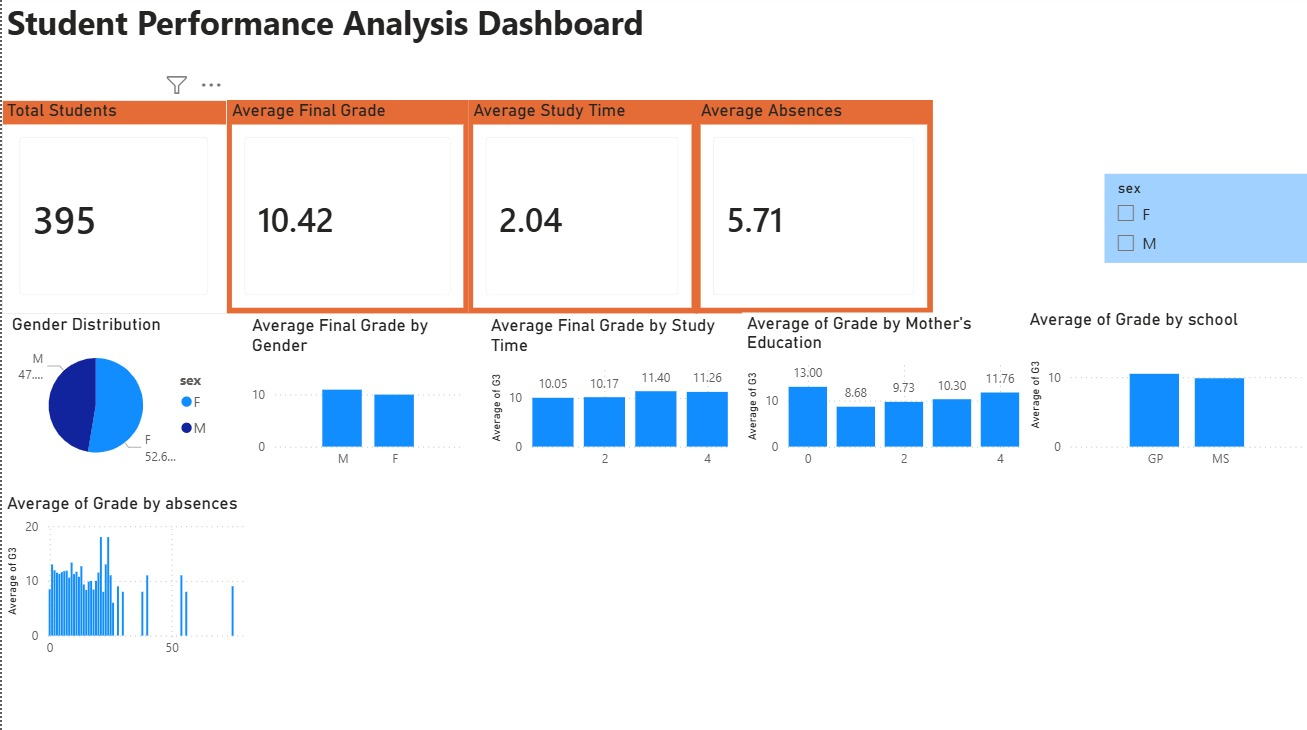

What the dashboard file says about the page in this screenshot:
{"tool":"powerbi","page":{"name":"Page 1","canvas":[1280,720],"ordinal":0},"visuals":[{"type":"cardVisual","title":"Total Students","fields":{"Data":["CountNonNull(student_data.age)"]},"box":[0,102.9,219.6,208.6],"z":0},{"type":"cardVisual","title":"Average Final Grade","fields":{"Data":["Avg(student_data.G3)"]},"box":[219.6,102.9,236,208.6],"z":1000},{"type":"cardVisual","title":"Average Study Time","fields":{"Data":["Avg(student_data.studytime)"]},"box":[455.6,102.9,223.7,208.6],"z":2000},{"type":"cardVisual","title":"Average Absences","fields":{"Data":["Avg(student_data.absences)"]},"box":[679.2,102.9,231.9,208.6],"z":3000},{"type":"pieChart","title":"Gender Distribution","fields":{"Category":["student_data.sex"],"Y":["CountNonNull(student_data.sex)"]},"box":[4.9,311.8,215.2,160.2],"z":4000},{"type":"clusteredColumnChart","title":"Average Final Grade by Gender","fields":{"Category":["student_data.sex"],"Y":["Avg(student_data.G3)"]},"box":[239.7,313,216.4,159],"z":5000},{"type":"clusteredColumnChart","title":"Average Final Grade by Study Time","fields":{"Category":["student_data.studytime"],"Y":["Avg(student_data.G3)"]},"box":[473.2,313,242.1,159],"z":6000},{"type":"clusteredColumnChart","title":"Average of Grade by Mother''s Education","fields":{"Category":["student_data.Medu"],"Y":["Avg(student_data.G3)"]},"box":[723.9,310.6,276.4,161.4],"z":7000},{"type":"slicer","fields":{"Values":["student_data.sex"]},"box":[1078.5,174.9,201.8,86.8],"z":8000},{"type":"textbox","box":[0,0,693,79.6],"z":9000},{"type":"clusteredColumnChart","title":"Average of Grade by school","fields":{"Category":["student_data.school"],"Y":["Avg(student_data.G3)"]},"box":[1000.3,306.9,280,165.1],"z":10000},{"type":"clusteredColumnChart","title":"Average of Grade by absences","fields":{"Category":["student_data.absences"],"Y":["Avg(student_data.G3)"]},"box":[0,487.1,249.7,170.2],"z":11000}]}

Visuals, with their boxes in screenshot pixels (x1, y1, x2, y2), scaled from the page's 1280x720 canvas onto the 1307x730 screenshot:
"Total Students" cardVisual: box(0, 104, 224, 316)
"Average Final Grade" cardVisual: box(224, 104, 465, 316)
"Average Study Time" cardVisual: box(465, 104, 694, 316)
"Average Absences" cardVisual: box(694, 104, 930, 316)
"Gender Distribution" pieChart: box(5, 316, 225, 479)
"Average Final Grade by Gender" clusteredColumnChart: box(245, 317, 466, 479)
"Average Final Grade by Study Time" clusteredColumnChart: box(483, 317, 730, 479)
"Average of Grade by Mother''s Education" clusteredColumnChart: box(739, 315, 1021, 479)
slicer - student_data.sex: box(1101, 177, 1306, 265)
textbox: box(0, 0, 708, 81)
"Average of Grade by school" clusteredColumnChart: box(1021, 311, 1306, 479)
"Average of Grade by absences" clusteredColumnChart: box(0, 494, 255, 666)
